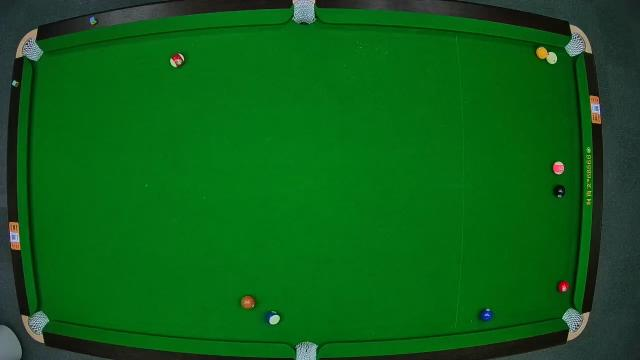bag1: (20, 40, 42, 62)
bag2: (292, 2, 316, 26)
bag3: (566, 36, 586, 58)
bag4: (29, 311, 49, 333)
bag5: (295, 340, 319, 360)
bag6: (562, 308, 582, 330)
ball0: (544, 51, 556, 65)
ball1: (534, 44, 548, 60)
ball10: (265, 309, 281, 325)
ball11: (170, 52, 184, 68)
ball12: (552, 160, 566, 176)
ball2: (480, 308, 494, 322)
ball3: (558, 279, 570, 293)
ball7: (239, 295, 255, 311)
ball8: (554, 185, 566, 198)
